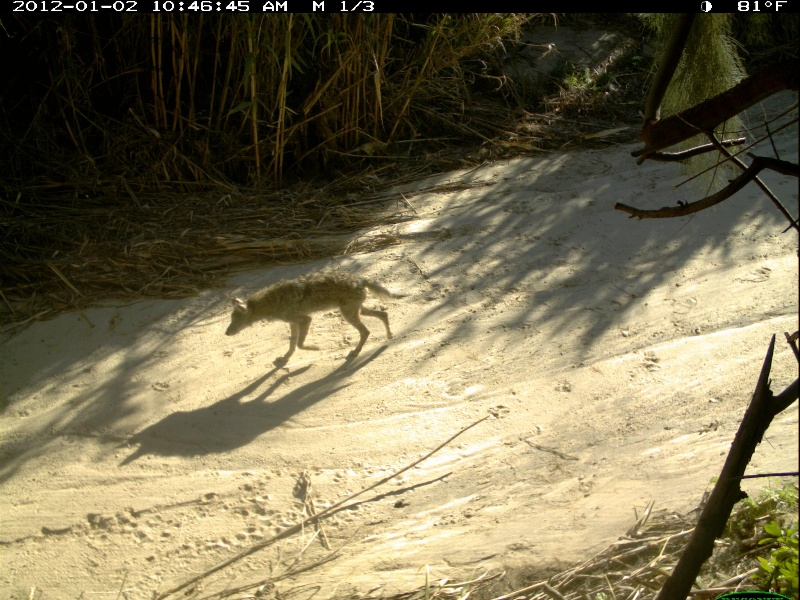coyote: (226, 269, 410, 369)
